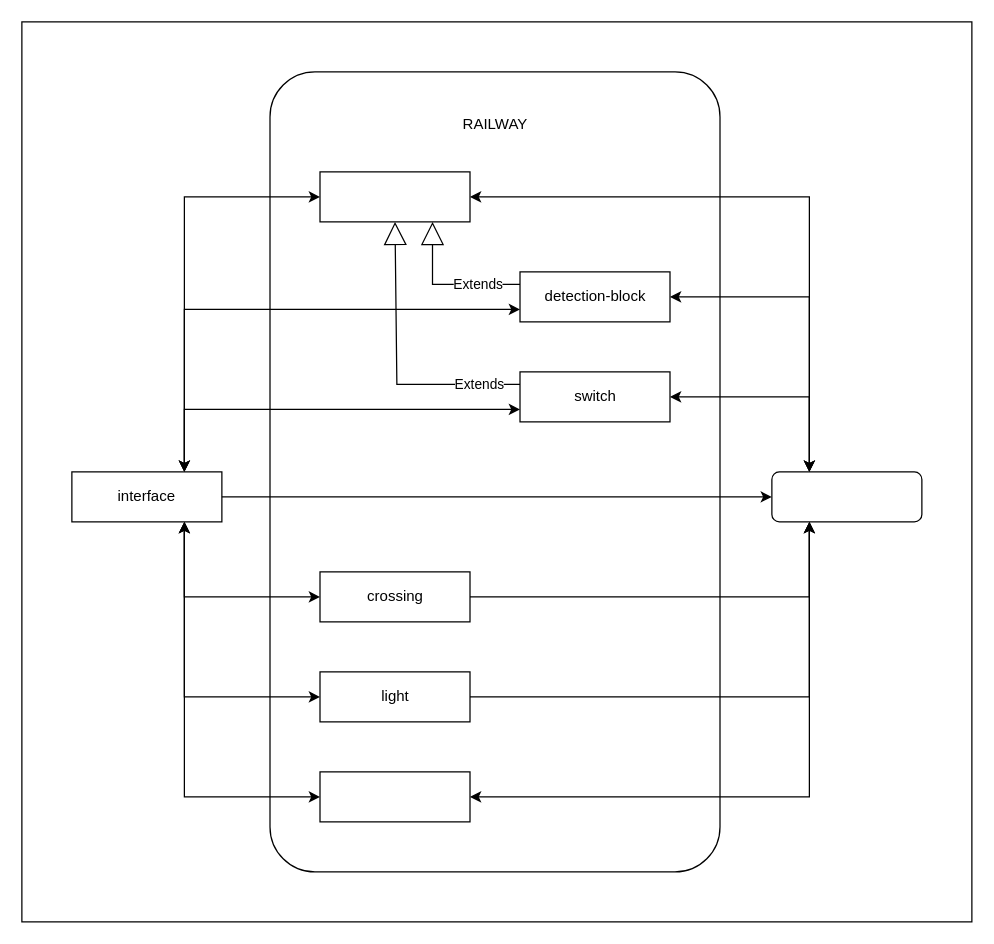
The diagram is 994 pixels wide and 944 high, and some of its shapes have lost their labels. Here are the shapes that lost their labels. From the top down, the centre of each, then its label:
At (394,196): "segment".
At (846,496): "Connection".
At (394,796): "train".
